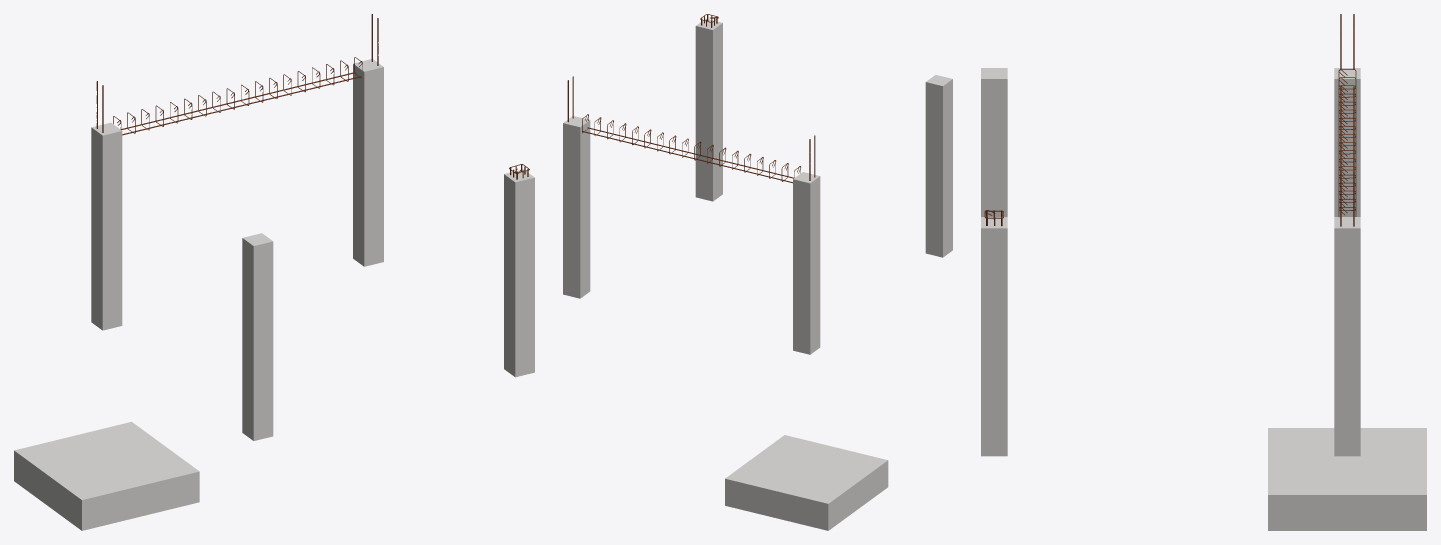
3 views of the same model, side by side, from view 1: azimuth 30°, elevation 25°; view 2: azimuth 150°, elevation 25°; view 3: azimuth 270°, elevation 25° (orthographic). The views are drawn at different scales.
Parts seen in each view (by area): view 1: Footing-Rectangular 1800 x 1800 x 450mm [329140]001, Concrete Square 300 x 300mm [338177]001, Concrete Square 300 x 300mm [337153]001, Concrete Square 300 x 300mm [337360]001, Concrete Square 300 x 300mm [338178]001, Rebar Bar H8 : Shape 52 [386813]_[319274]001, Rebar Bar H16 : Shape Rebar Shape 2 [386814]_[319274]001, Rebar Bar H16 : Shape Rebar Shape 2 [386815]_[319274]001; view 2: Footing-Rectangular 1800 x 1800 x 450mm [329140]001, Concrete Square 300 x 300mm [337153]001, Concrete Square 300 x 300mm [338177]001, Concrete Square 300 x 300mm [337360]001, Concrete Square 300 x 300mm [338178]001, Rebar Bar H8 : Shape 52 [386813]_[319274]001, Rebar Bar H16 : Shape Rebar Shape 2 [386815]_[319274]001, Rebar Bar H16 : Shape Rebar Shape 2 [386814]_[319274]001; view 3: Footing-Rectangular 1800 x 1800 x 450mm [329140]001, Concrete Square 300 x 300mm [337360]001, Concrete Square 300 x 300mm [338178]001, Concrete Square 300 x 300mm [338177]001, Concrete Square 300 x 300mm [337153]001, Rebar Bar H8 : Shape 52 [386813]_[319274]001.
Part boxes in pixels (box(x1,y1,x2,y2)): Footing-Rectangular 1800 x 1800 x 450mm [329140]001: box(14, 421, 199, 530); Concrete Square 300 x 300mm [338177]001: box(242, 233, 273, 440); Concrete Square 300 x 300mm [337153]001: box(91, 122, 122, 330); Concrete Square 300 x 300mm [337360]001: box(353, 59, 383, 266); Concrete Square 300 x 300mm [338178]001: box(504, 169, 534, 377); Rebar Bar H8 : Shape 52 [386813]_[319274]001: box(113, 57, 362, 133); Rebar Bar H16 : Shape Rebar Shape 2 [386814]_[319274]001: box(102, 18, 378, 135); Rebar Bar H16 : Shape Rebar Shape 2 [386815]_[319274]001: box(96, 14, 372, 130); Footing-Rectangular 1800 x 1800 x 450mm [329140]001: box(725, 435, 888, 530); Concrete Square 300 x 300mm [337153]001: box(793, 172, 820, 354); Concrete Square 300 x 300mm [338177]001: box(925, 75, 952, 257); Concrete Square 300 x 300mm [337360]001: box(563, 116, 590, 298); Concrete Square 300 x 300mm [338178]001: box(695, 19, 722, 201); Rebar Bar H8 : Shape 52 [386813]_[319274]001: box(582, 114, 800, 181); Rebar Bar H16 : Shape Rebar Shape 2 [386815]_[319274]001: box(567, 80, 810, 183); Rebar Bar H16 : Shape Rebar Shape 2 [386814]_[319274]001: box(572, 76, 815, 178); Footing-Rectangular 1800 x 1800 x 450mm [329140]001: box(1268, 428, 1426, 530); Concrete Square 300 x 300mm [337360]001: box(1334, 217, 1360, 456); Concrete Square 300 x 300mm [338178]001: box(981, 217, 1007, 456); Concrete Square 300 x 300mm [338177]001: box(981, 68, 1007, 216); Concrete Square 300 x 300mm [337153]001: box(1334, 68, 1360, 216); Rebar Bar H8 : Shape 52 [386813]_[319274]001: box(1338, 69, 1356, 216).
Size of the model in its own units: 5.05 by 5.99 by 5.05.
2 materials, 1 textured.
